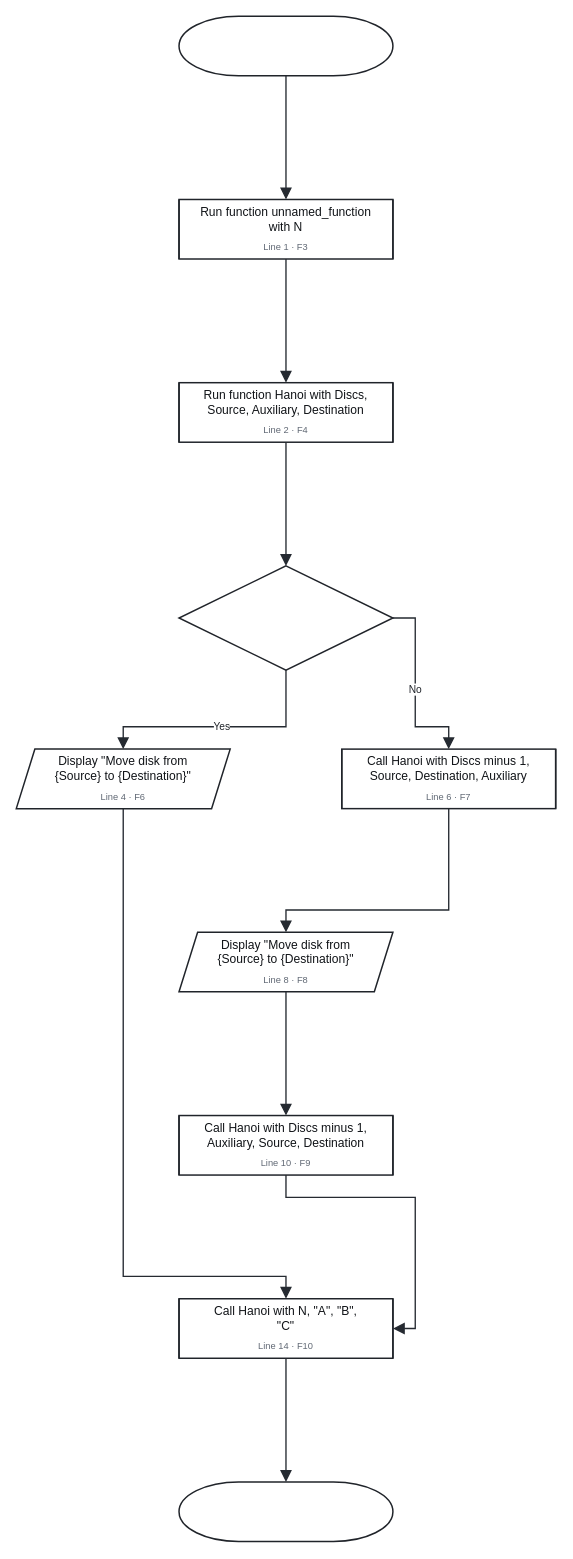
Some shapes in this 573 by 1559 pixel diagram are drawn without their labels. The shapes that lost their labels are listed below. From the top down, each one's centre as x and y in pixels, then its label:
At (285,45): "Start Line 1 · F1".
At (285,617): "Discs is equal to 1? Line 3 · F5".
At (285,1511): "End Line 1 · F2".
